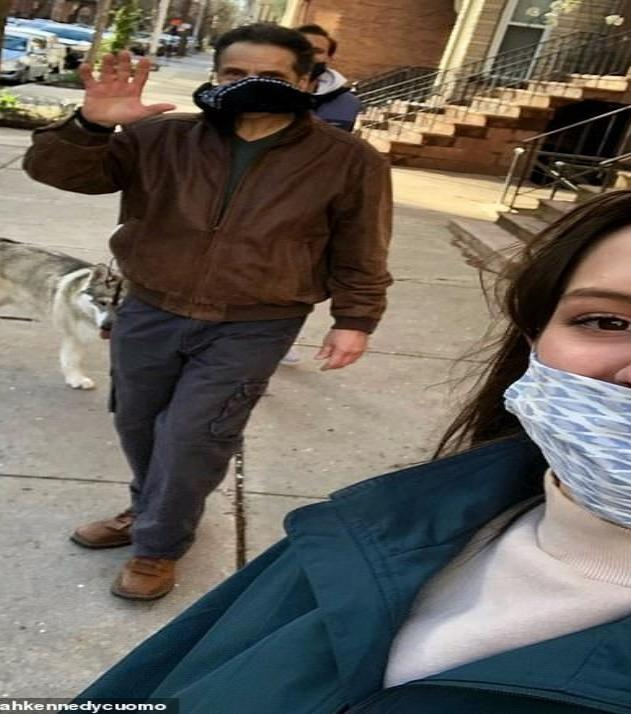mask_weared_incorrect: (499, 177, 631, 532)
